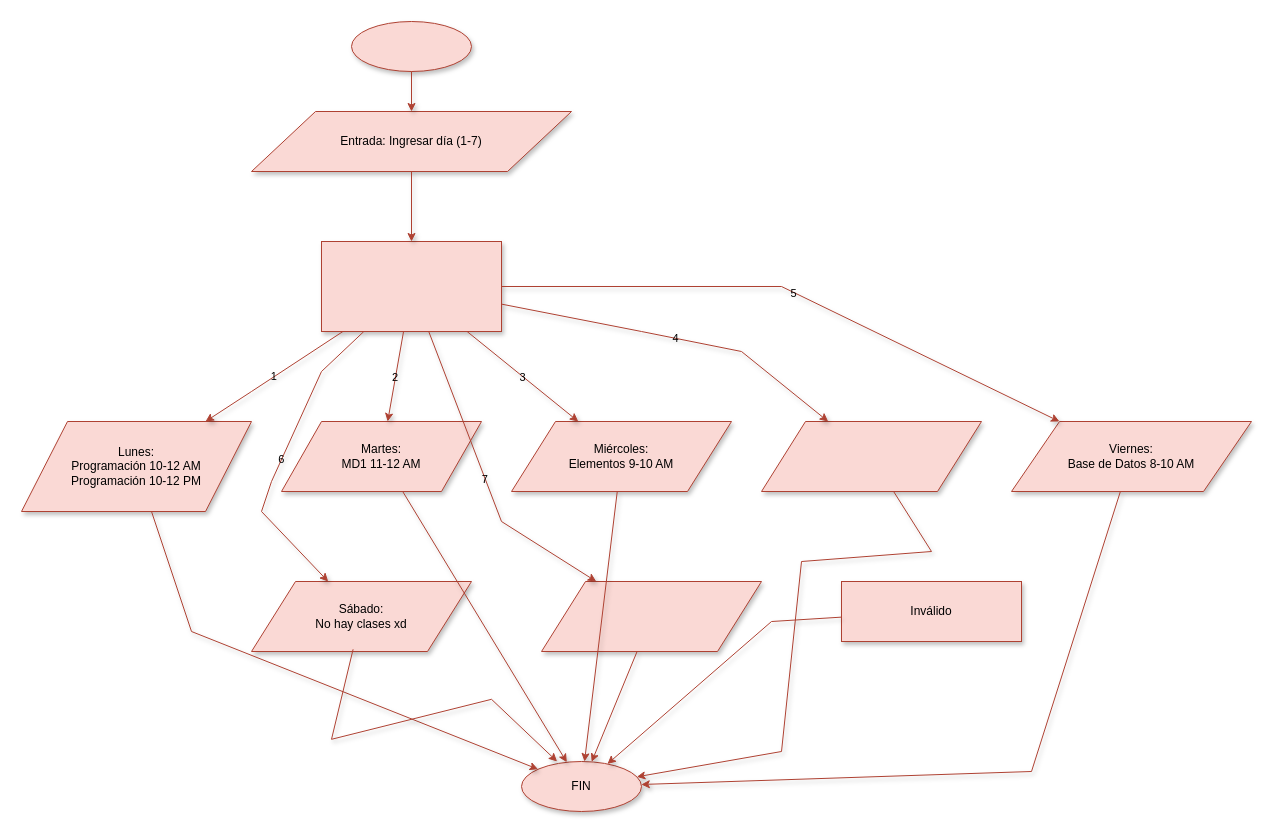
The diagram is 1275 pixels wide and 836 high, and some of its shapes have lost their labels. The centre of each missing label's shape, as x and y in pixels:
"Domingo: No hay clases xd" belongs at [652,617].
"INICIO" belongs at [412,47].
"Jueves: Precalculo 7-9 AM" belongs at [872,457].
"¿Qué día eligió?" belongs at [412,287].
